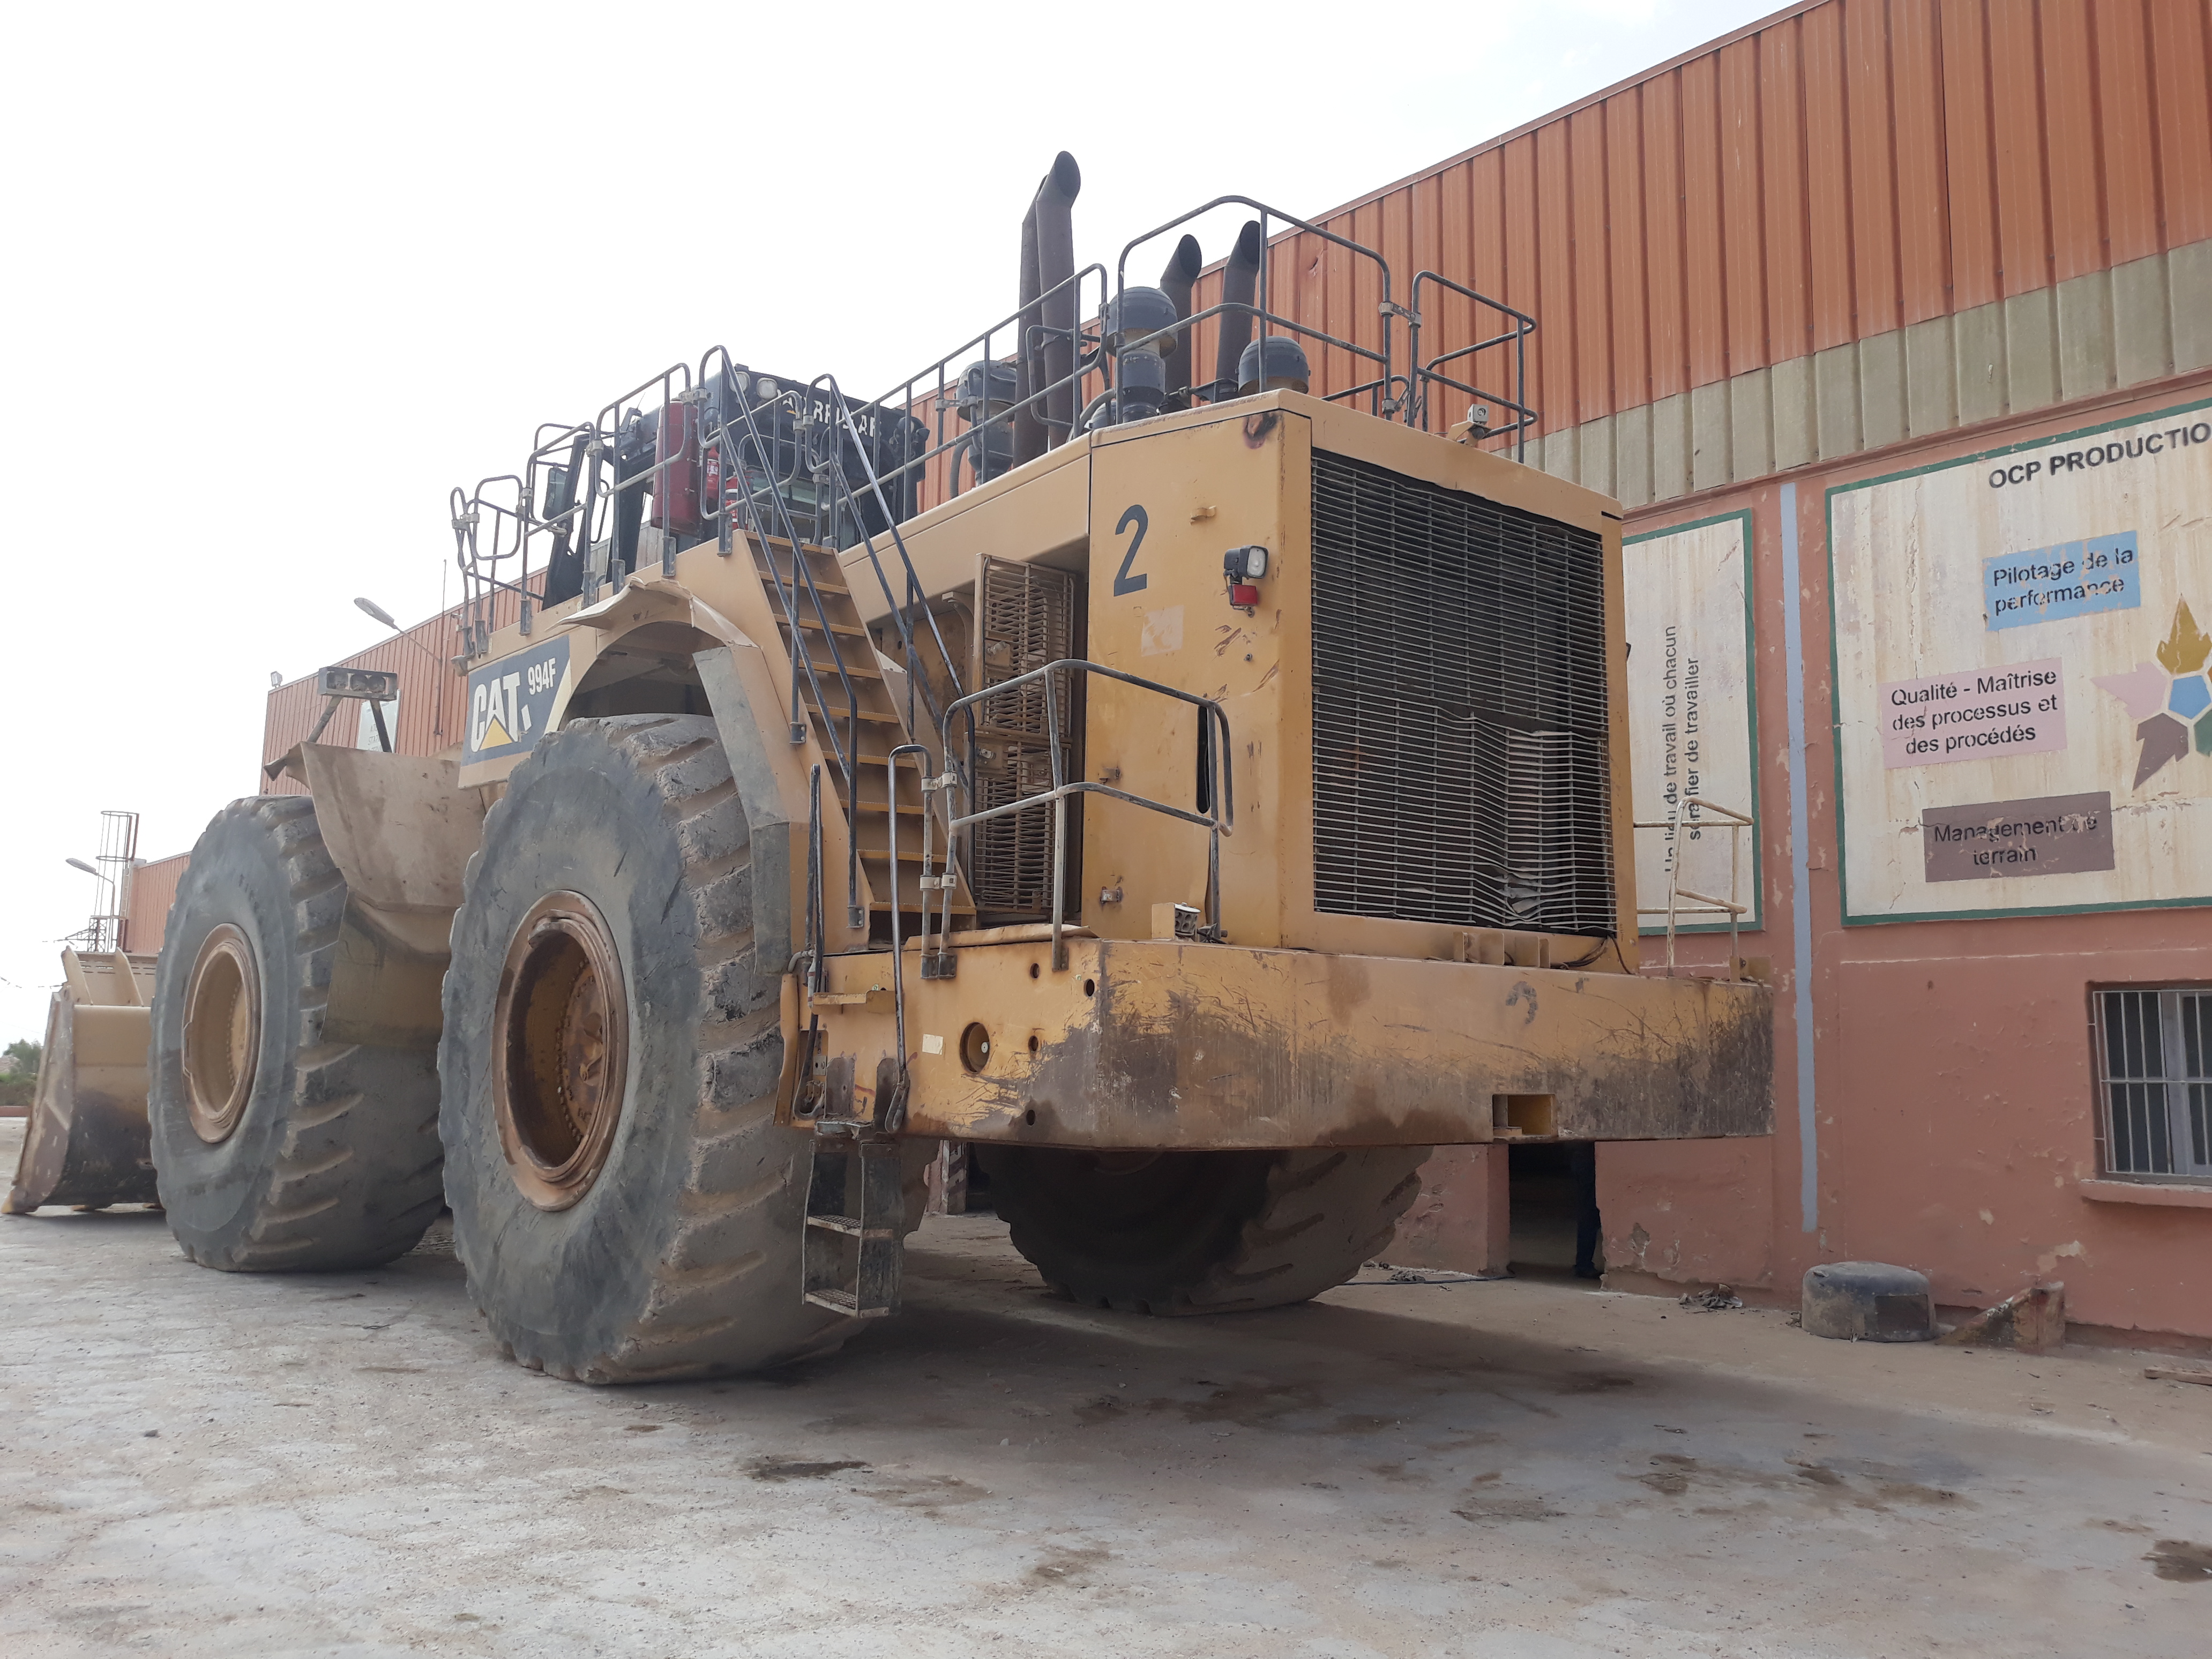chargeuse: (7, 202, 1787, 1419)
